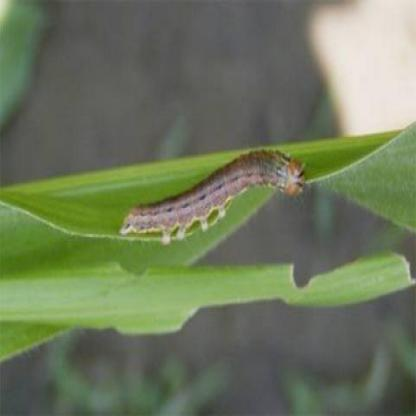armyworm: (117, 148, 313, 237)
